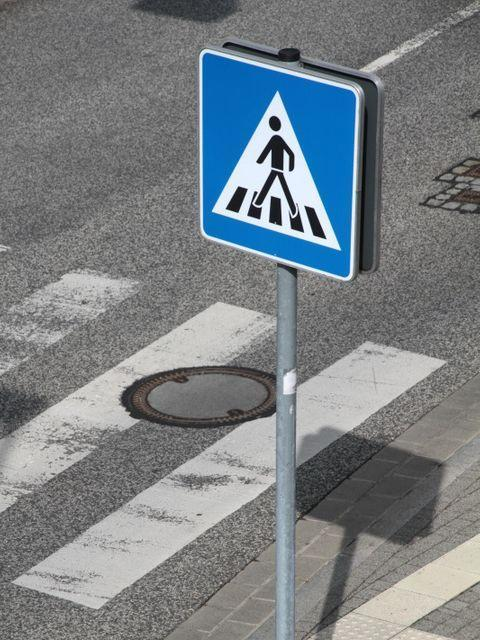crosswalk-sign: (199, 46, 368, 282)
